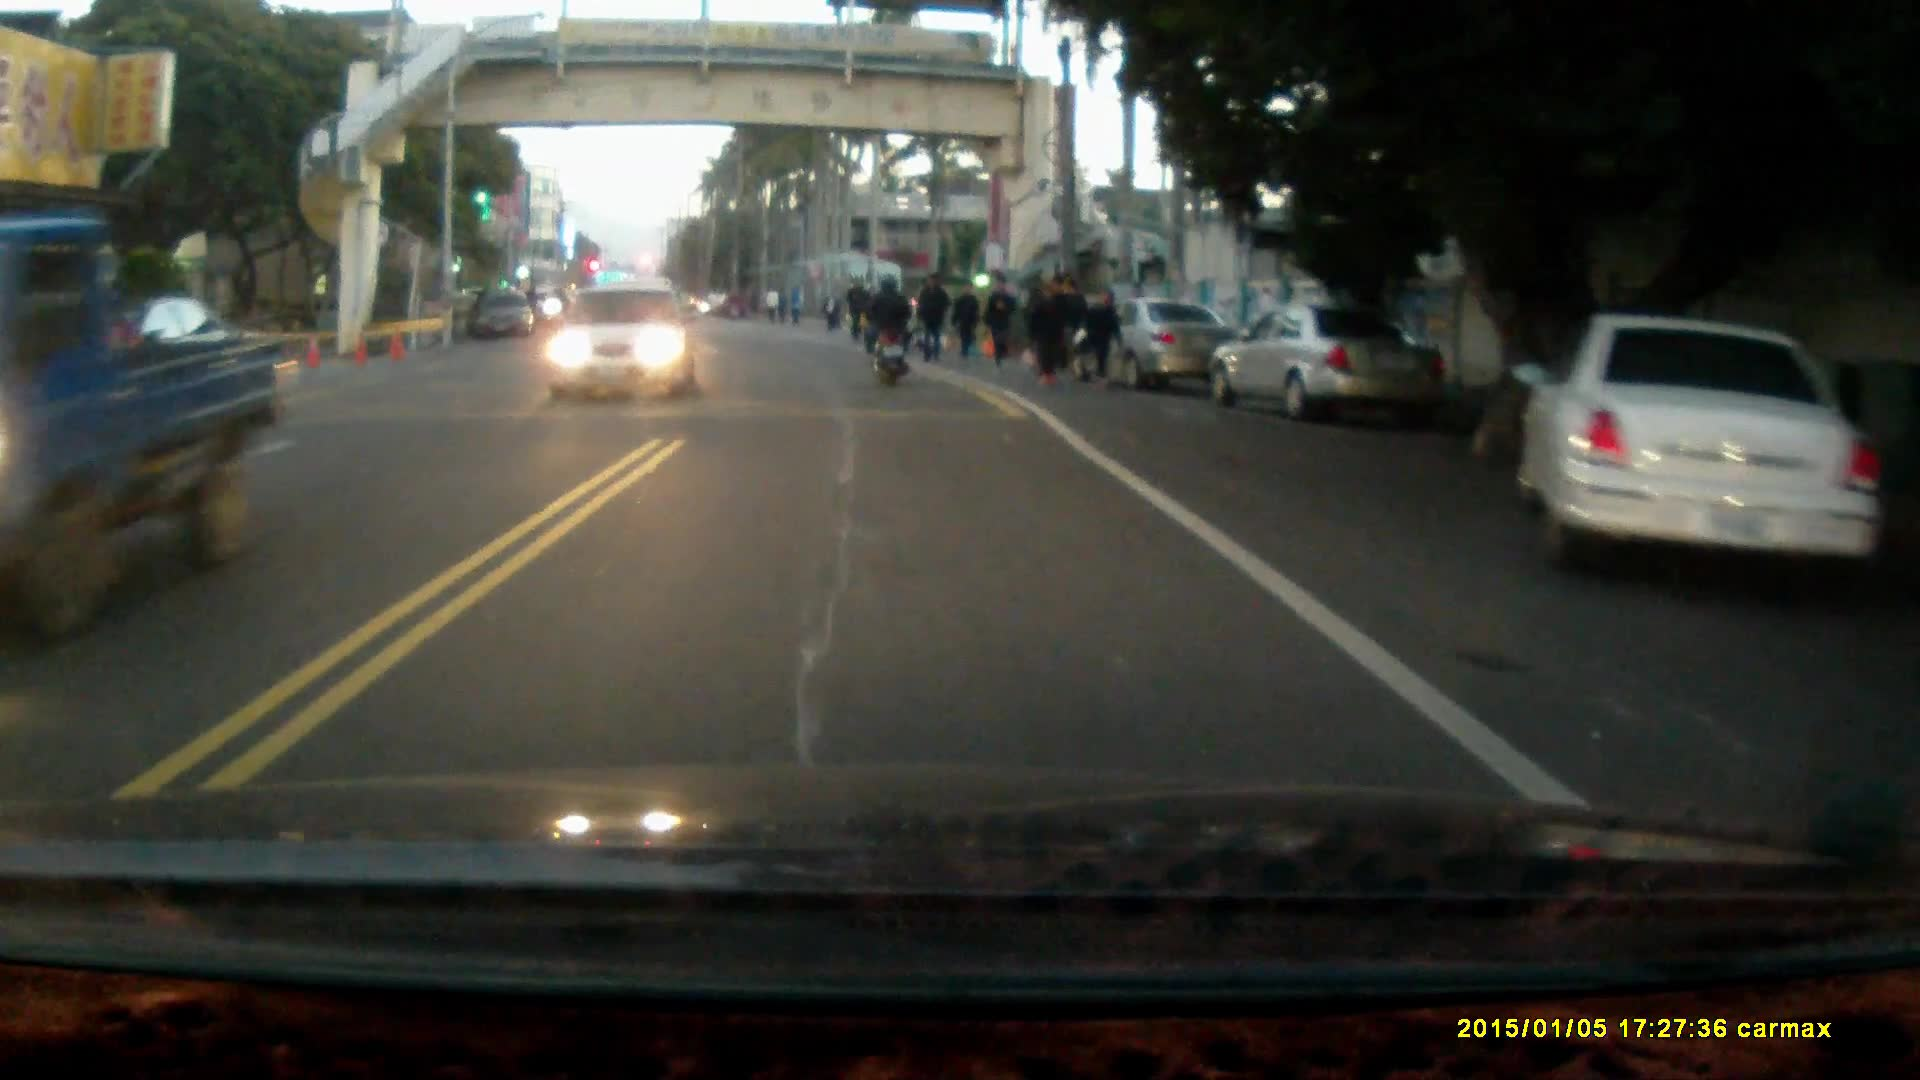pedestrian: (1026, 274, 1061, 383), (1046, 271, 1080, 378), (1086, 288, 1122, 386), (984, 269, 1019, 366), (915, 270, 950, 360), (950, 277, 985, 363)
rider: (858, 273, 915, 389)
vehicle: (1, 245, 293, 613), (1512, 311, 1868, 599), (1212, 297, 1441, 421), (544, 279, 702, 404), (1106, 295, 1241, 395)
